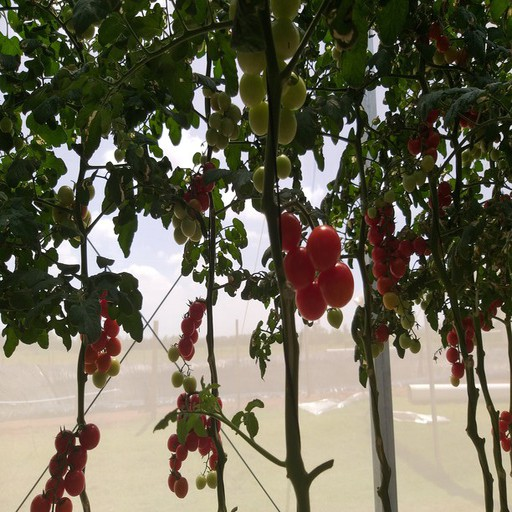green tomato bunch: (227, 1, 309, 147), (53, 181, 99, 245), (199, 84, 241, 150), (170, 199, 210, 246), (459, 133, 502, 170)
mixed tomato bunch: (168, 375, 226, 499), (402, 92, 441, 195), (425, 25, 480, 67)
red tomato bunch: (272, 212, 356, 320), (29, 423, 101, 512), (368, 204, 435, 293), (447, 297, 505, 389), (85, 282, 120, 376), (182, 159, 222, 209), (175, 300, 206, 362)
